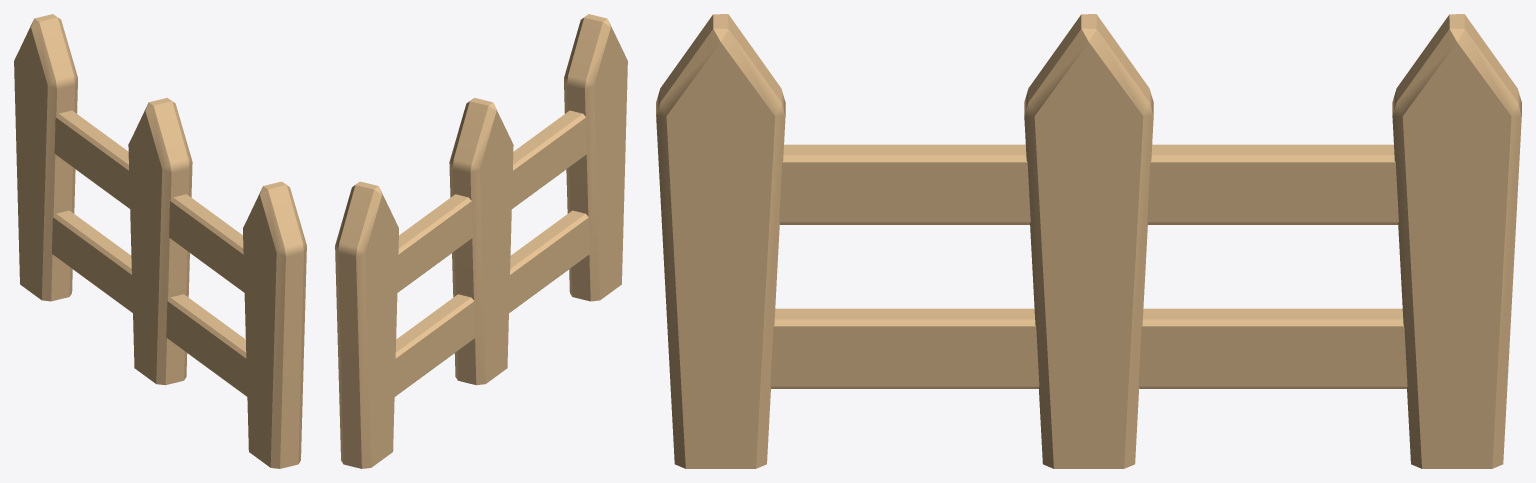
File: fence_single_2.fbx
3 renders of one model, left to right at view 1: azimuth 30°, elevation 25°; view 2: azimuth 150°, elevation 25°; view 3: azimuth 270°, elevation 25°, orthographic. The views are drawn at different scales.
Parts seen in each view (by area): view 1: fence_single1; view 2: fence_single1; view 3: fence_single1.
Boxes of the visible parts, x1,y1,x2,y2 form: fence_single1: (14,14,306,468); fence_single1: (335,14,627,468); fence_single1: (656,14,1521,468).
Size of the model in its own units: 0.3058 by 2.61 by 4.7.
